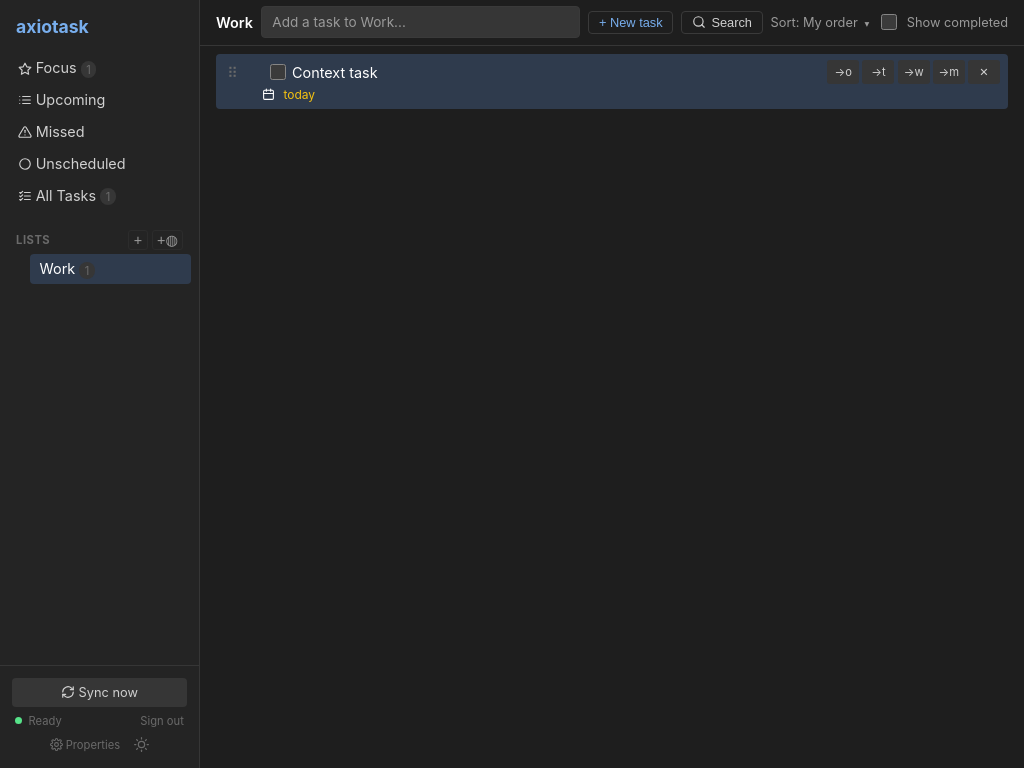
it: GH#12: Delete task with undo › Delete via context menu › context menu has Delete option
The width and height of the screenshot is (1024, 768).
Check: the text "Context task" is shown, box top-left (292, 64), bottom-right (378, 81)
Right-click the element with class "task-widget": [612, 81] box top-left (216, 54), bottom-right (1008, 109)
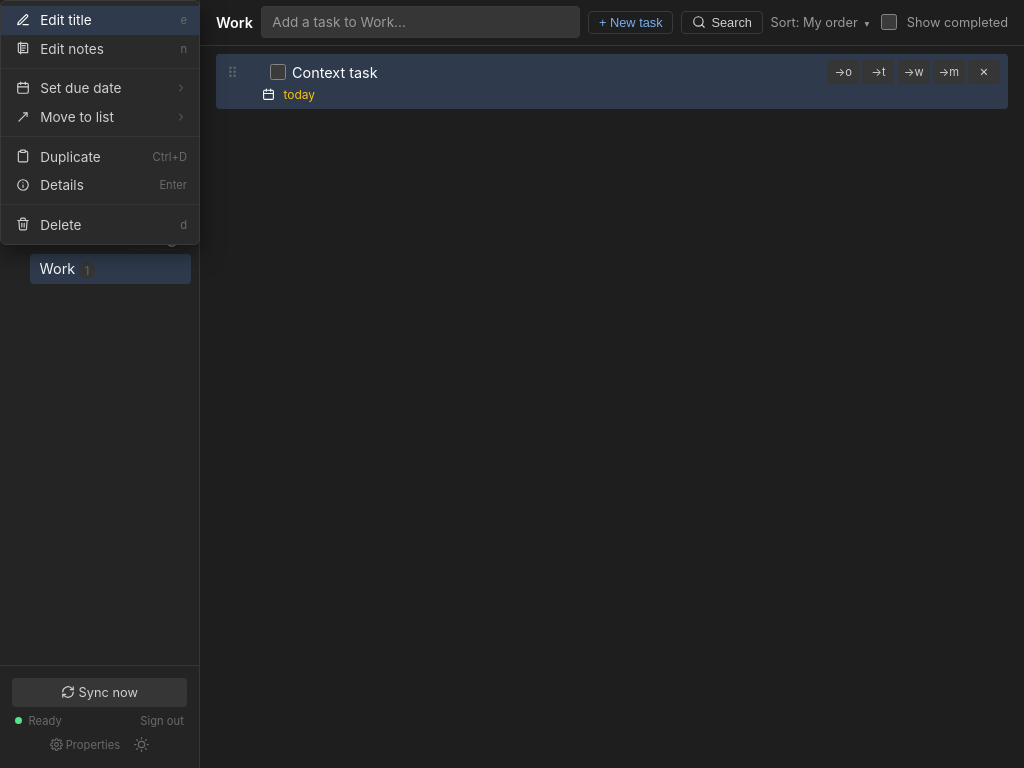
Check: the text "Delete" is shown, box top-left (40, 217), bottom-right (81, 233)
